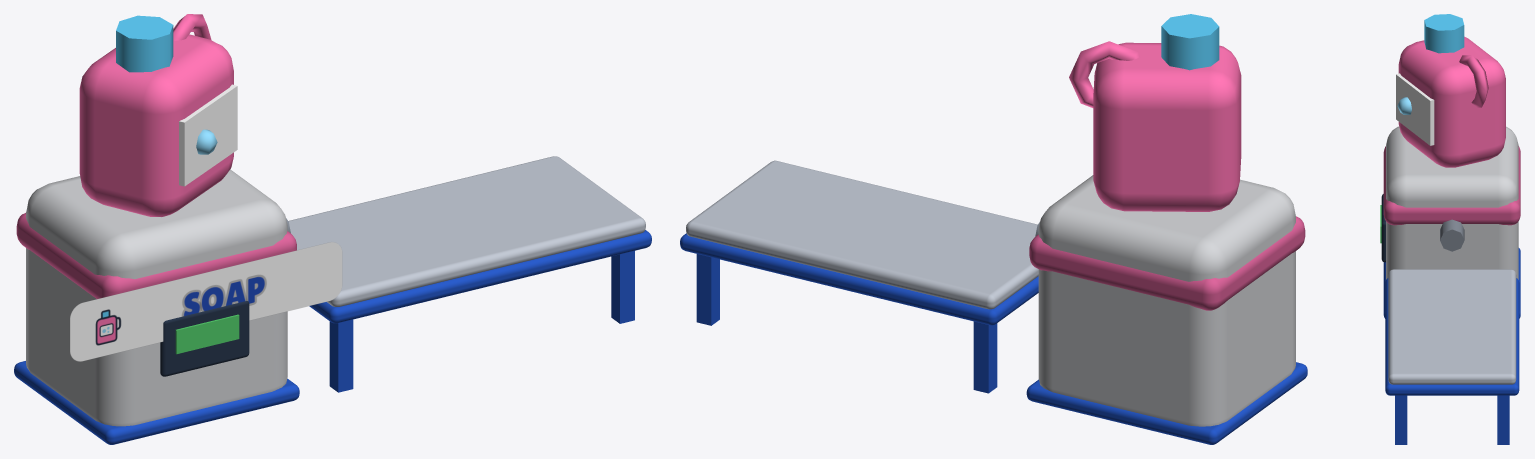
Rendered from rack_soap.glb.
3 views of the same model, side by side, from view 1: azimuth 30°, elevation 25°; view 2: azimuth 150°, elevation 25°; view 3: azimuth 270°, elevation 25° (orthographic). The views are drawn at different scales.
Visible parts, largest first — view 1: Rack_soap, Giant; view 2: Rack_soap, Giant; view 3: Rack_soap, Giant.
Boxes of the visible parts, x1,y1,x2,y2 form: Rack_soap: (14, 156, 651, 444); Giant: (79, 14, 237, 216); Rack_soap: (680, 160, 1307, 444); Giant: (1069, 14, 1241, 211); Rack_soap: (1380, 126, 1520, 444); Giant: (1396, 14, 1505, 167).
Bounding box in the file's own units: 4.68 × 2.87 × 1.38.
Materials: 3 (1 with a texture image).
